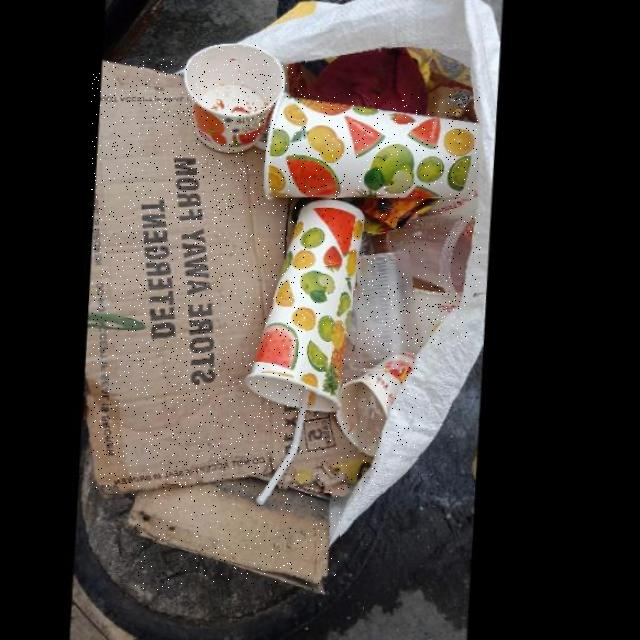paper: (91, 60, 305, 496), (253, 199, 369, 411), (267, 94, 480, 204), (136, 480, 340, 592), (184, 45, 288, 152), (343, 355, 422, 458), (291, 415, 377, 493), (419, 277, 467, 347)
plastic: (378, 211, 481, 297), (357, 251, 423, 369)
